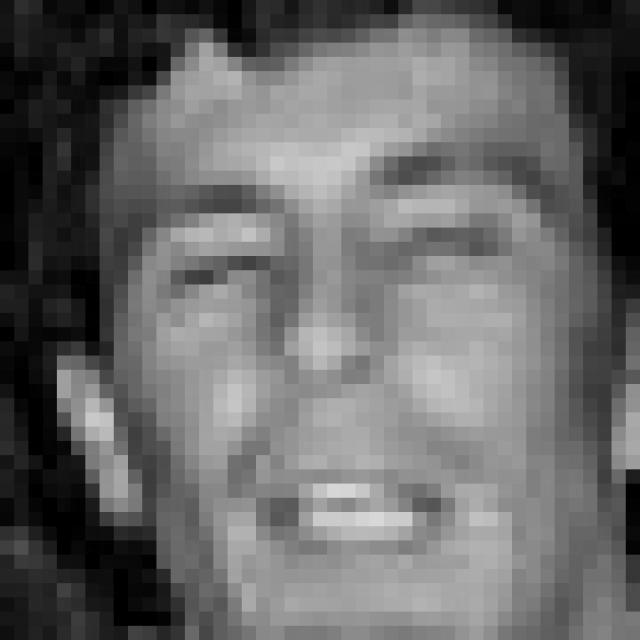real: (0, 3, 640, 640), (108, 121, 589, 350)
